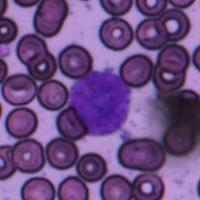B: (68, 68, 132, 135)
